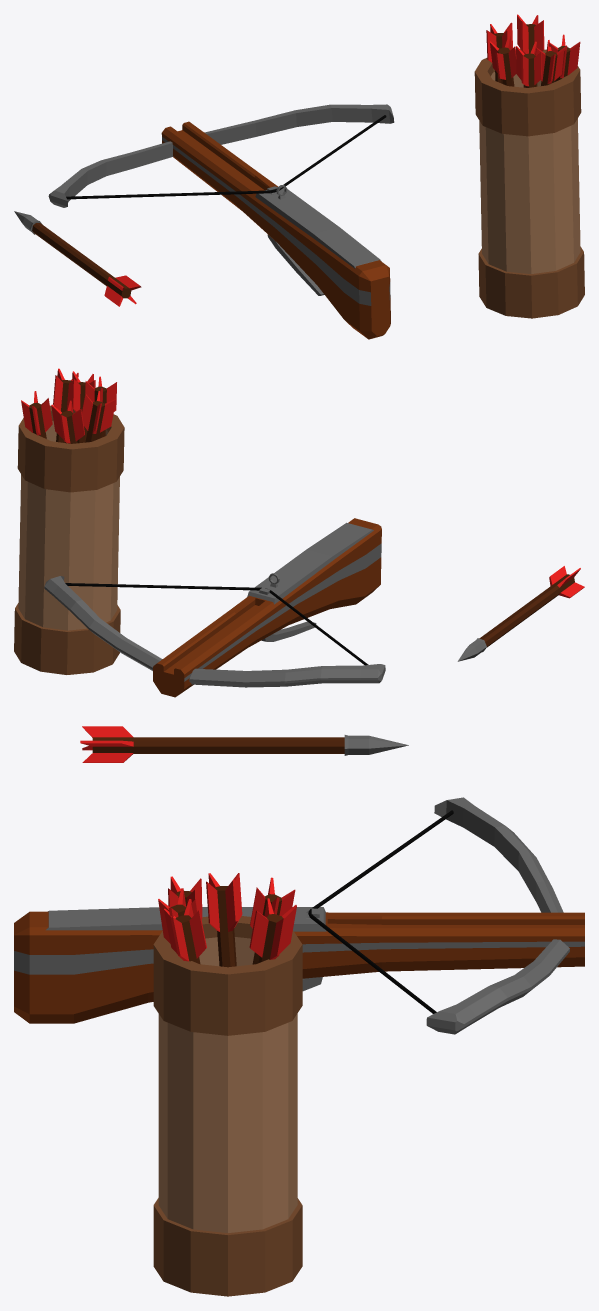
The model's file is crossbow.glb.
3 renders of one model, top to bottom at view 1: azimuth 30°, elevation 25°; view 2: azimuth 150°, elevation 25°; view 3: azimuth 270°, elevation 25°, orthographic. The views are drawn at different scales.
Parts seen in each view (by area): view 1: Cylinder.001, crossbow, Arrow; view 2: Cylinder.001, crossbow, Arrow; view 3: Cylinder.001, crossbow, Arrow.
Part boxes in pixels (left/top/right/bottom): Cylinder.001: left=474, top=14, right=584, bottom=318; crossbow: left=48, top=104, right=394, bottom=339; Arrow: left=14, top=211, right=141, bottom=306; Cylinder.001: left=14, top=368, right=124, bottom=674; crossbow: left=44, top=518, right=385, bottom=697; Arrow: left=457, top=566, right=584, bottom=661; Cylinder.001: left=153, top=873, right=302, bottom=1296; crossbow: left=14, top=797, right=584, bottom=1034; Arrow: left=80, top=726, right=408, bottom=762.
Size of the model in its own units: 3928 by 1950 by 2698.
